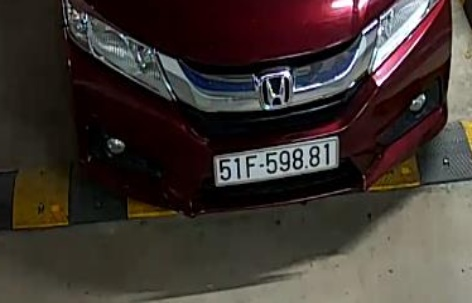plate: (208, 130, 343, 185)
